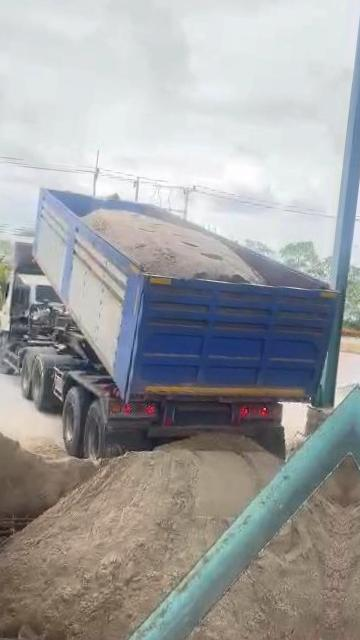sand: (0, 436, 278, 640), (179, 495, 344, 640), (84, 209, 264, 284), (0, 413, 98, 517), (319, 454, 351, 508)
